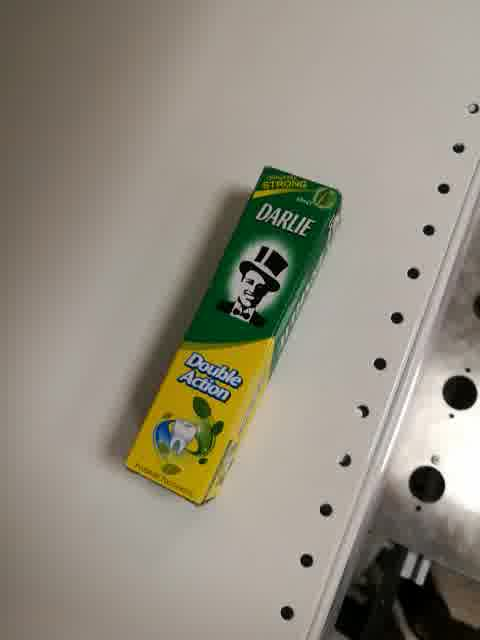toothpaste: (121, 164, 344, 506)
